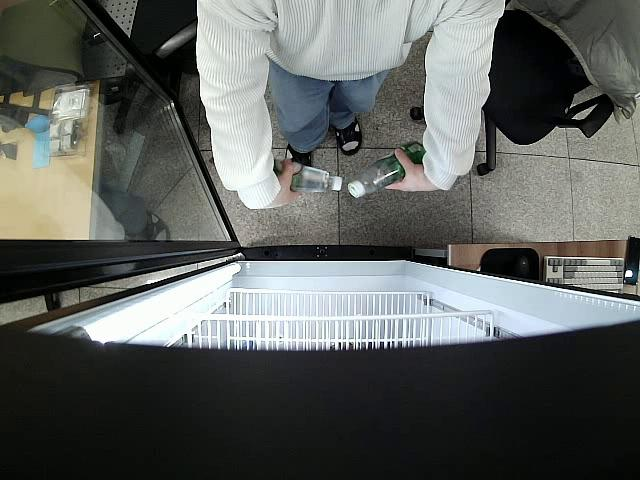00_hand: (383, 147, 441, 193), (271, 155, 304, 209)
18_trevi: (349, 141, 426, 197), (273, 158, 343, 195)
